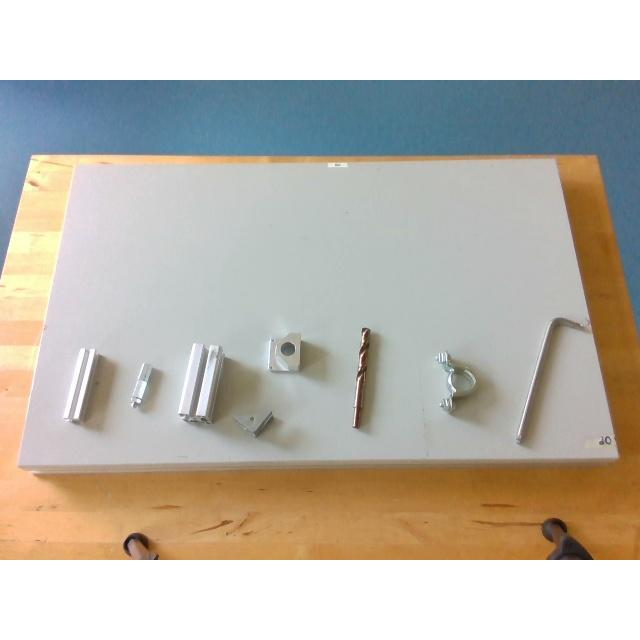AllenKey: (514, 316, 586, 444)
Drill: (351, 327, 373, 429)
F20_20_G: (63, 347, 95, 421)
Housing: (434, 352, 478, 410)
S40_40_G: (178, 342, 222, 422)
